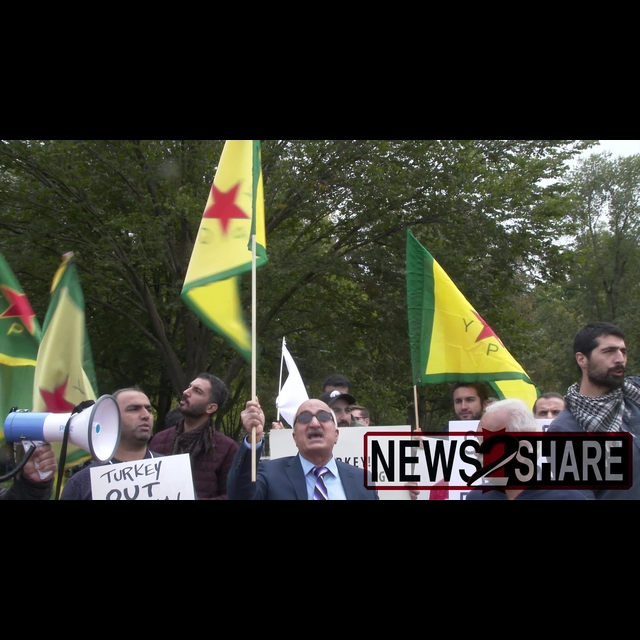YPG: (184, 139, 268, 260), (449, 289, 511, 359)
